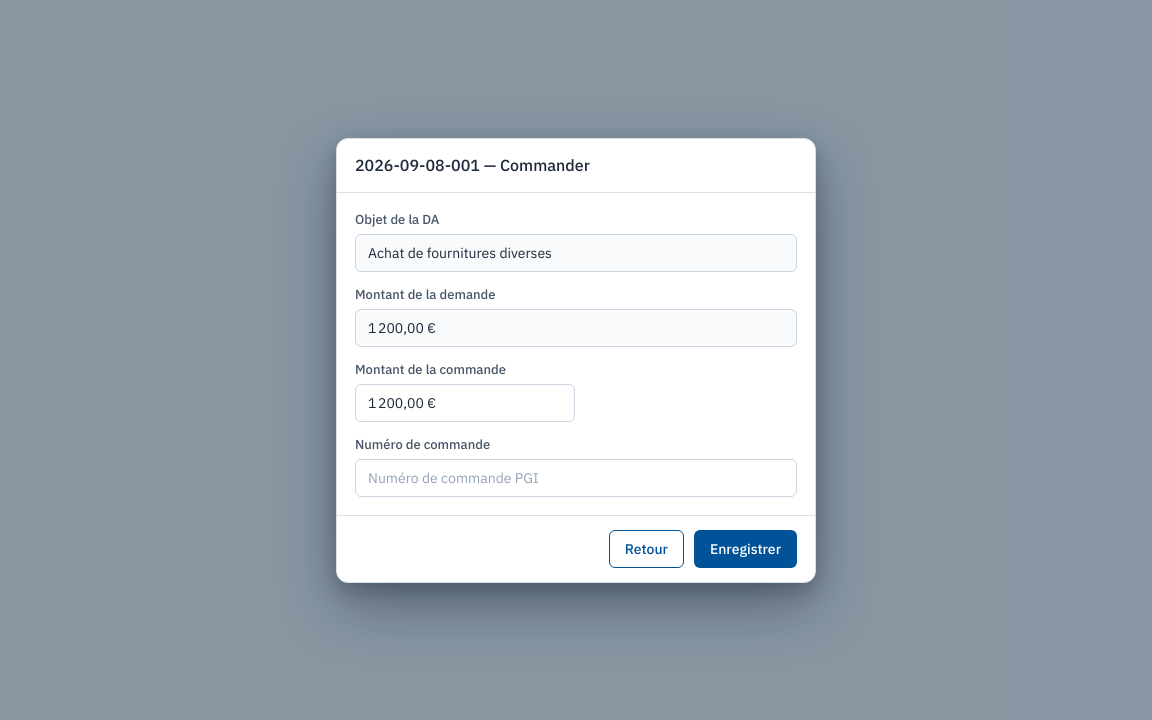
Test: CommanderCbModal › refuse la saisie sans montant
Clear the field labelled "Montant de la commande" at (465, 402), box [355,384,575,422]
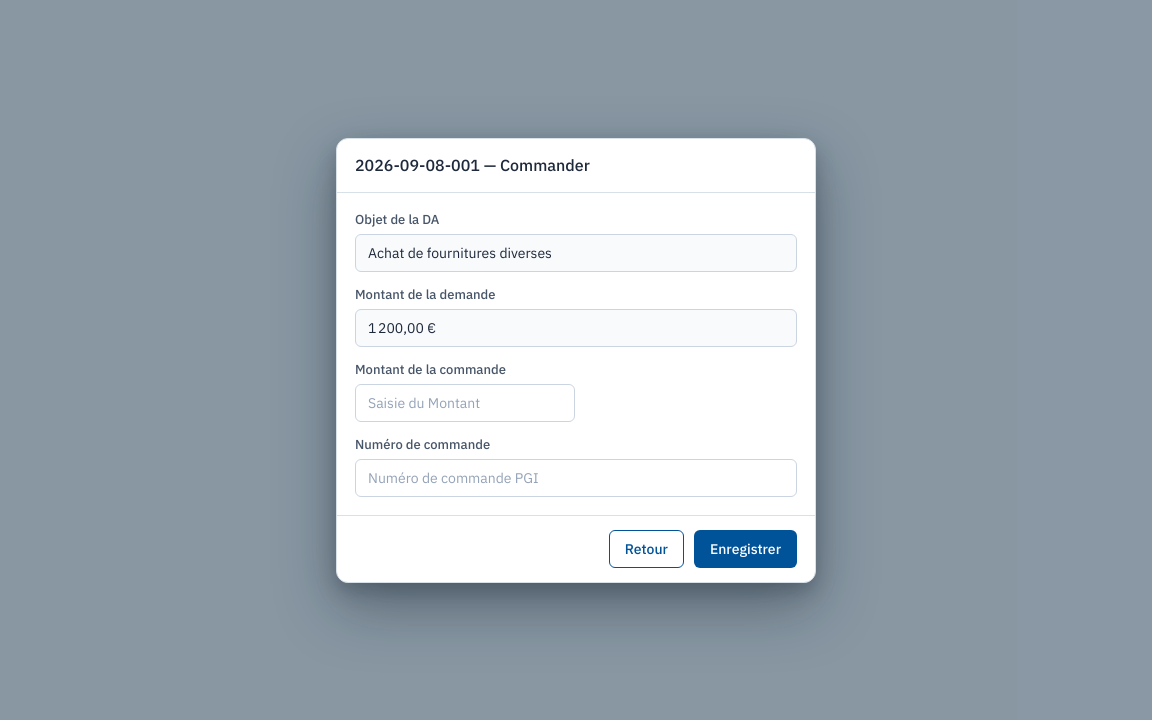
Click the button "Enregistrer".
click(745, 548)  # box [694,530,797,568]
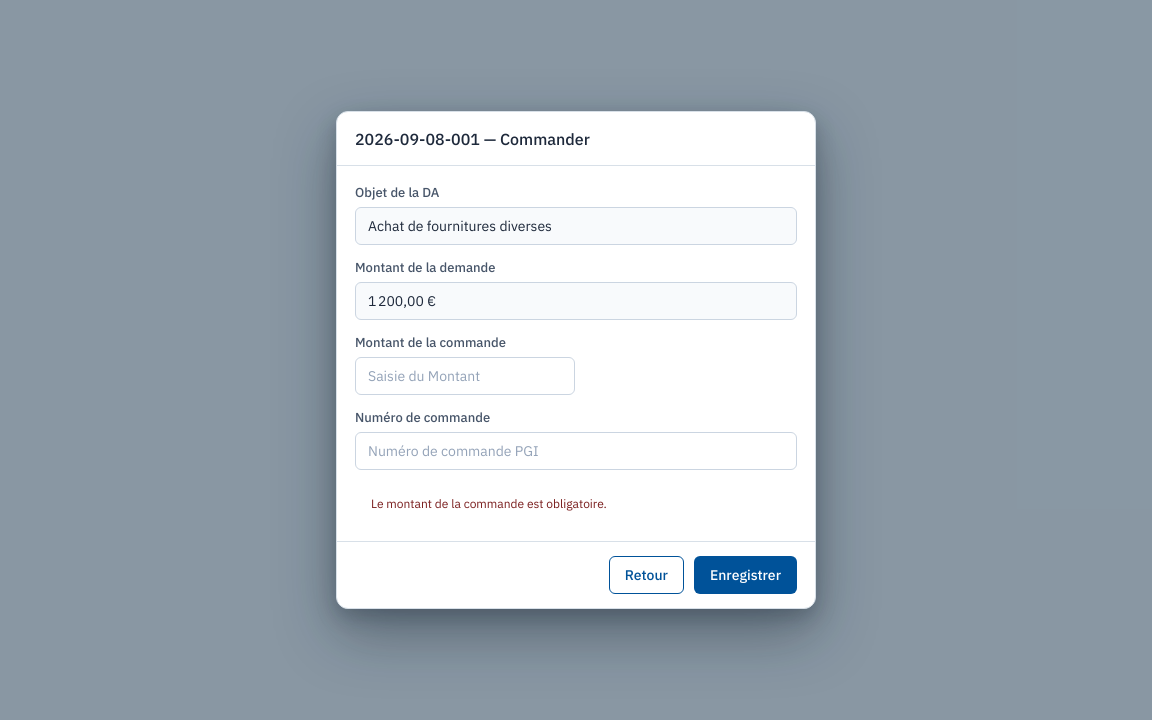
Check: the text "Le montant de la commande est obligatoire." is shown, box [355,496,607,511]
